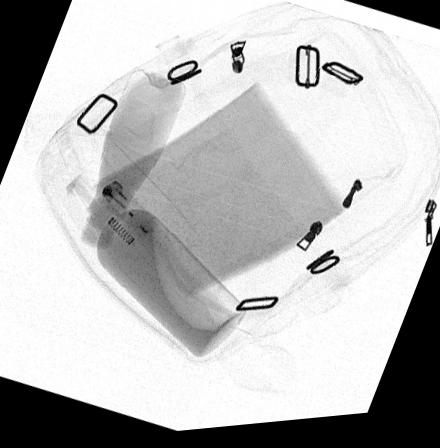Lighter: (101, 181, 158, 240)
